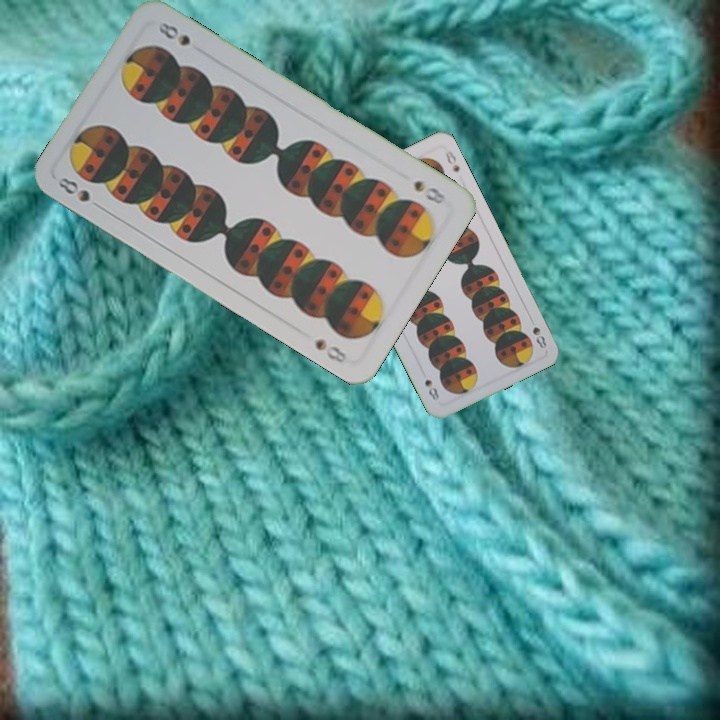S8: (54, 173, 107, 211), (409, 176, 450, 207), (528, 323, 549, 351)
